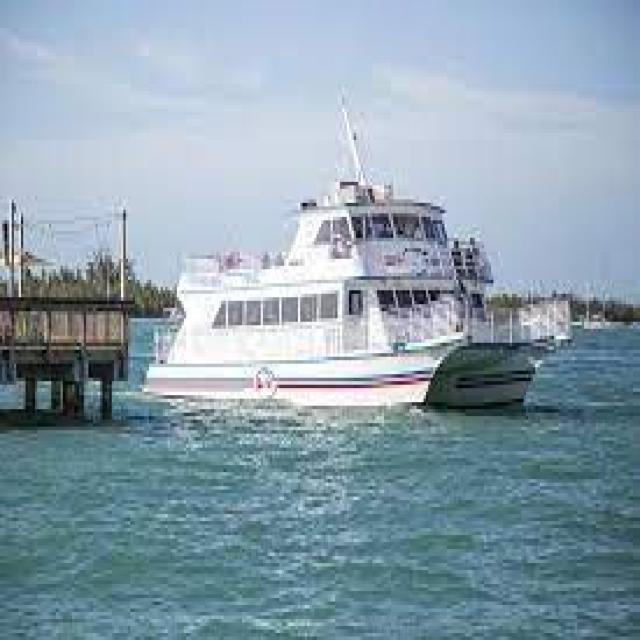passenger ship: (146, 174, 564, 406)
